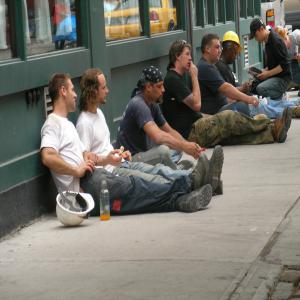none: (49, 73, 79, 116), (82, 69, 110, 110), (141, 67, 166, 106), (170, 39, 194, 73), (201, 33, 222, 64), (251, 17, 267, 46)
yellow: (223, 31, 242, 64), (275, 26, 288, 48)
